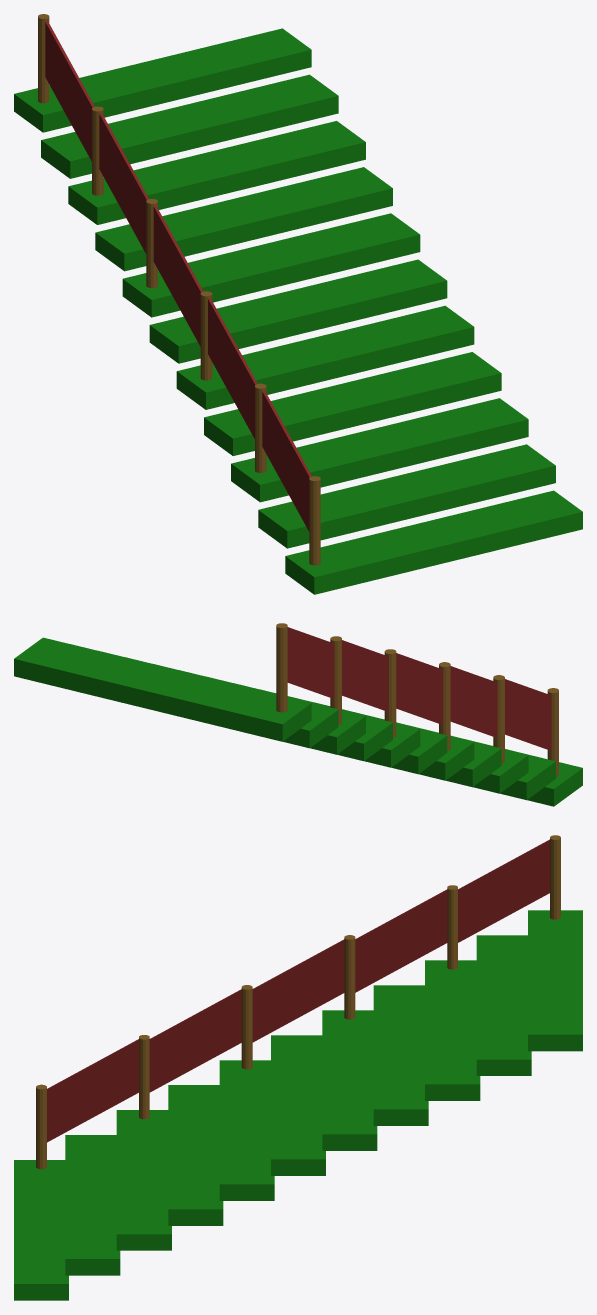
File: Stairs.fbx
3 renders of one model, top to bottom at view 1: azimuth 30°, elevation 25°; view 2: azimuth 150°, elevation 25°; view 3: azimuth 270°, elevation 25°, orthographic. The views are drawn at different scales.
Visible parts, largest first — view 1: StairCase (×3); view 2: StairCase (×3); view 3: StairCase (×3).
Part boxes in pixels (x1,y1,x2,y2): StairCase (×3): (14, 14, 582, 594); StairCase (×3): (14, 623, 582, 806); StairCase (×3): (14, 835, 582, 1300).
Size of the model in its own units: 8 by 10.4 by 15.5.
